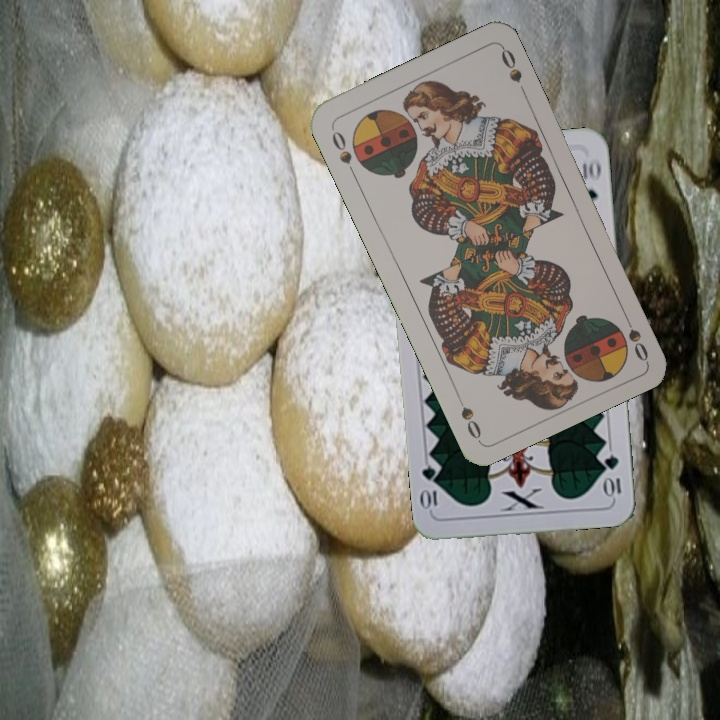G10: (601, 451, 624, 500)
SO: (618, 307, 651, 364), (327, 123, 359, 179)
